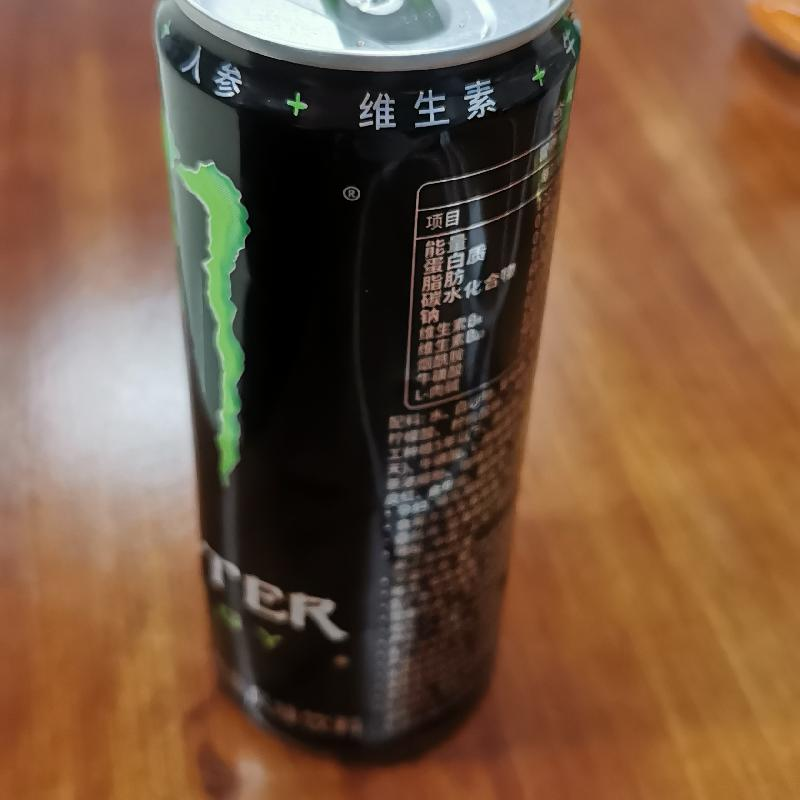cans: (144, 0, 575, 768)
